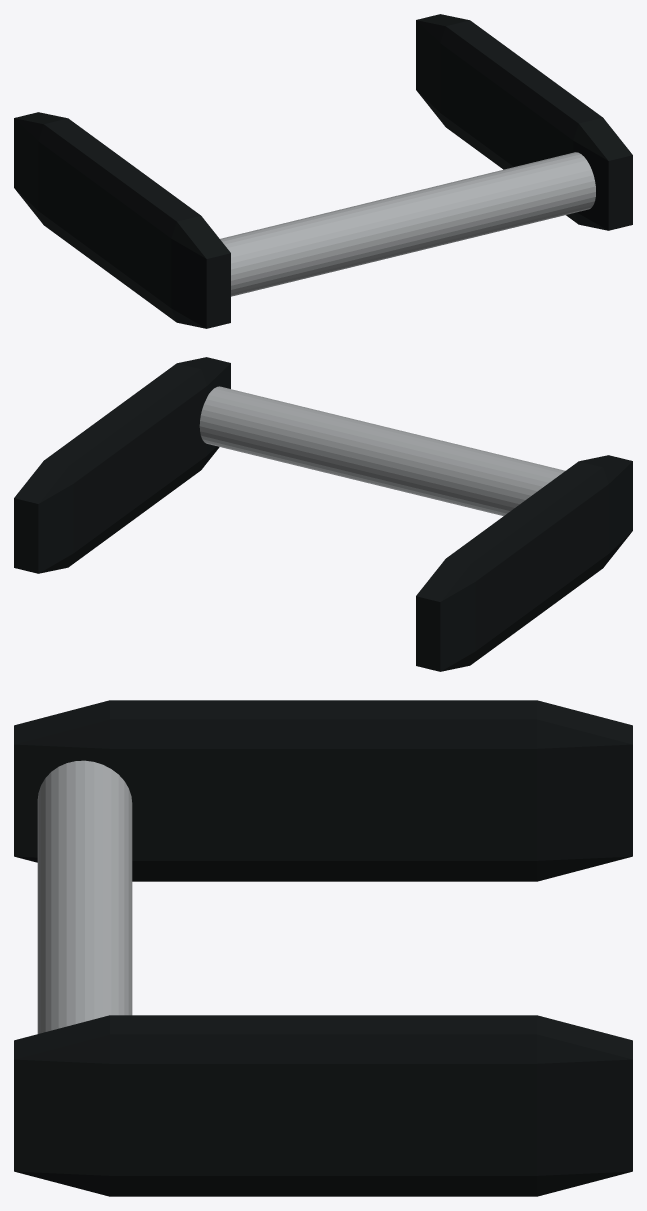
The model's file is ToiletRollHolderV1.fbx.
3 views of the same model, one above another, from view 1: azimuth 30°, elevation 25°; view 2: azimuth 150°, elevation 25°; view 3: azimuth 270°, elevation 25° (orthographic). The views are drawn at different scales.
Parts seen in each view (by area): view 1: Cube.001; view 2: Cube.001; view 3: Cube.001.
Part boxes in pixels (x1=…): Cube.001: x1=14, y1=14, x2=632, y2=328; Cube.001: x1=14, y1=357, x2=632, y2=671; Cube.001: x1=14, y1=700, x2=632, y2=1196.
Size of the model in its own units: 313 by 409 by 90.46.
